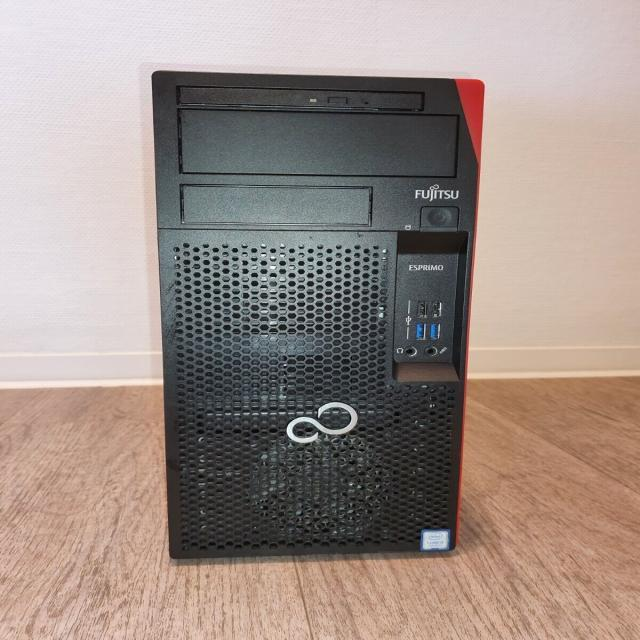Desktop-PC: (129, 50, 489, 608)
